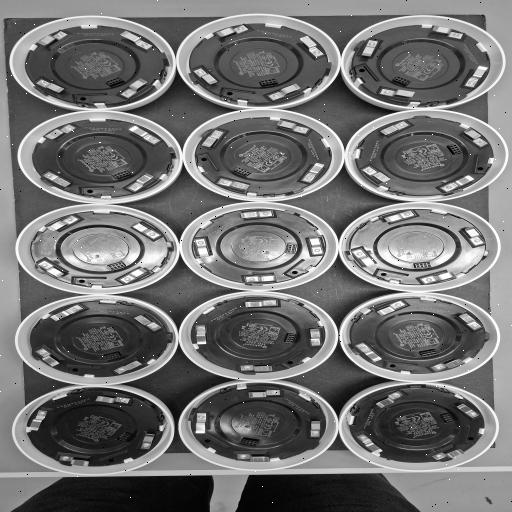konnektor: (239, 437, 262, 447), (116, 431, 135, 443), (105, 77, 125, 87), (392, 76, 412, 86), (440, 412, 456, 424), (108, 261, 126, 271), (420, 349, 440, 358), (283, 332, 298, 344), (103, 352, 122, 361), (448, 144, 462, 156), (260, 78, 278, 87), (234, 167, 252, 176), (113, 170, 129, 180), (285, 244, 298, 256), (414, 262, 433, 268)
yaysiz: (119, 30, 154, 51), (356, 434, 388, 456), (294, 35, 325, 57), (370, 391, 407, 409), (49, 304, 85, 322), (127, 125, 161, 144), (120, 78, 150, 99), (441, 174, 476, 192), (44, 124, 77, 143), (37, 30, 68, 50), (35, 78, 69, 96), (268, 83, 302, 101), (376, 120, 410, 138), (457, 128, 489, 147), (27, 409, 51, 434), (42, 172, 74, 190), (46, 216, 78, 234), (378, 211, 416, 226), (452, 400, 482, 419), (128, 222, 161, 239), (192, 67, 220, 87), (355, 343, 383, 363), (464, 65, 488, 88), (432, 356, 466, 372), (362, 166, 392, 184), (38, 260, 68, 278), (119, 266, 149, 284), (422, 269, 458, 284), (35, 348, 62, 368), (59, 454, 97, 468), (373, 301, 406, 317), (301, 162, 326, 183), (431, 446, 466, 461), (459, 226, 485, 246), (128, 173, 155, 192), (351, 249, 378, 268), (132, 314, 162, 331), (428, 25, 464, 39), (274, 120, 310, 134), (200, 129, 224, 150), (218, 178, 254, 192), (454, 312, 482, 330), (215, 25, 250, 39), (356, 39, 380, 59), (379, 88, 418, 100), (114, 359, 144, 374), (305, 233, 325, 255), (245, 272, 281, 284), (93, 394, 132, 405), (243, 390, 282, 400), (139, 431, 158, 450), (195, 238, 211, 260), (194, 324, 210, 346), (195, 413, 211, 435), (238, 210, 273, 220), (240, 299, 278, 308), (306, 418, 322, 438), (236, 453, 276, 461), (308, 326, 322, 346), (240, 365, 278, 372)
